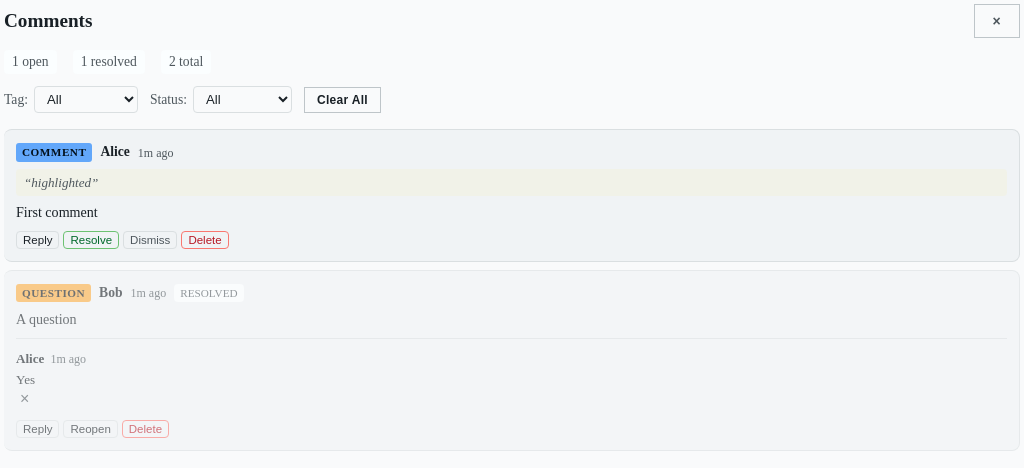
Test: CommentManager › Delete action removes the comment from the list
This screenshot has width=1024, height=468.
Expected: the text "First comment" is shown, [16,204,98,220]
Click the button "Delete" below "First comment" at (205, 240), box [181,231,229,249]
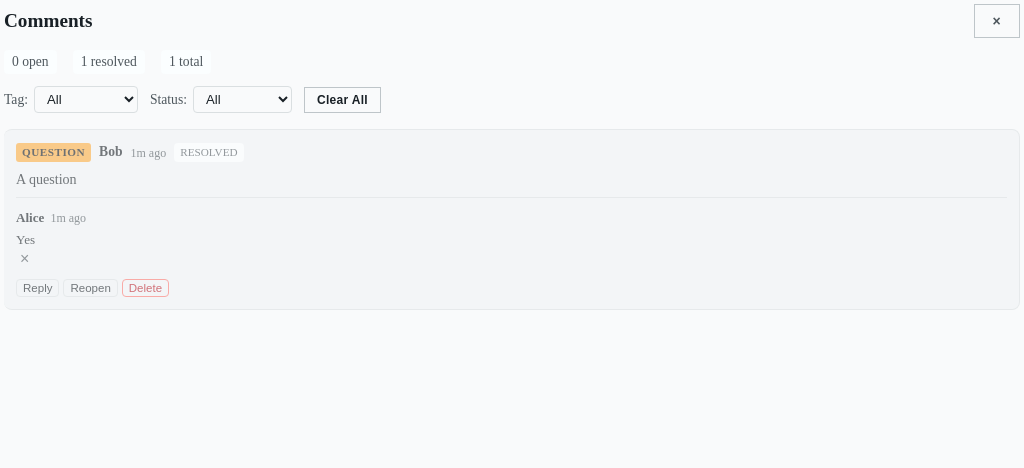
Now the text "First comment" is gone
